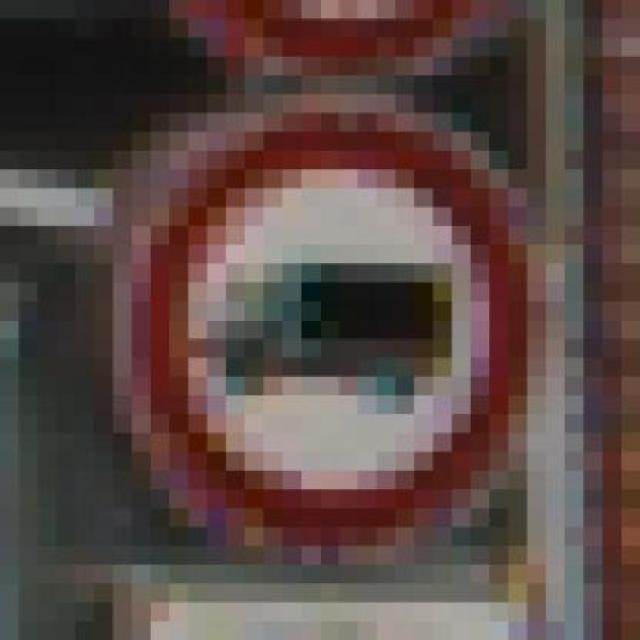Truck traffic is prohibited: (68, 96, 578, 566)
